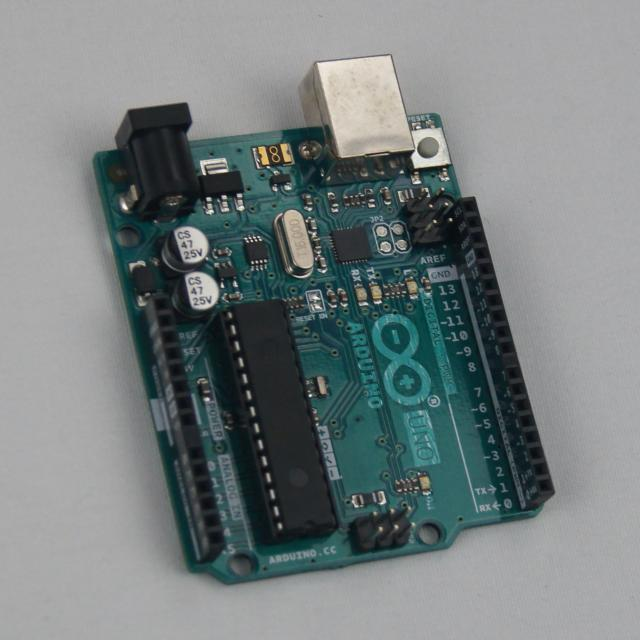Arduino Uno -Green-: (96, 56, 555, 584)
